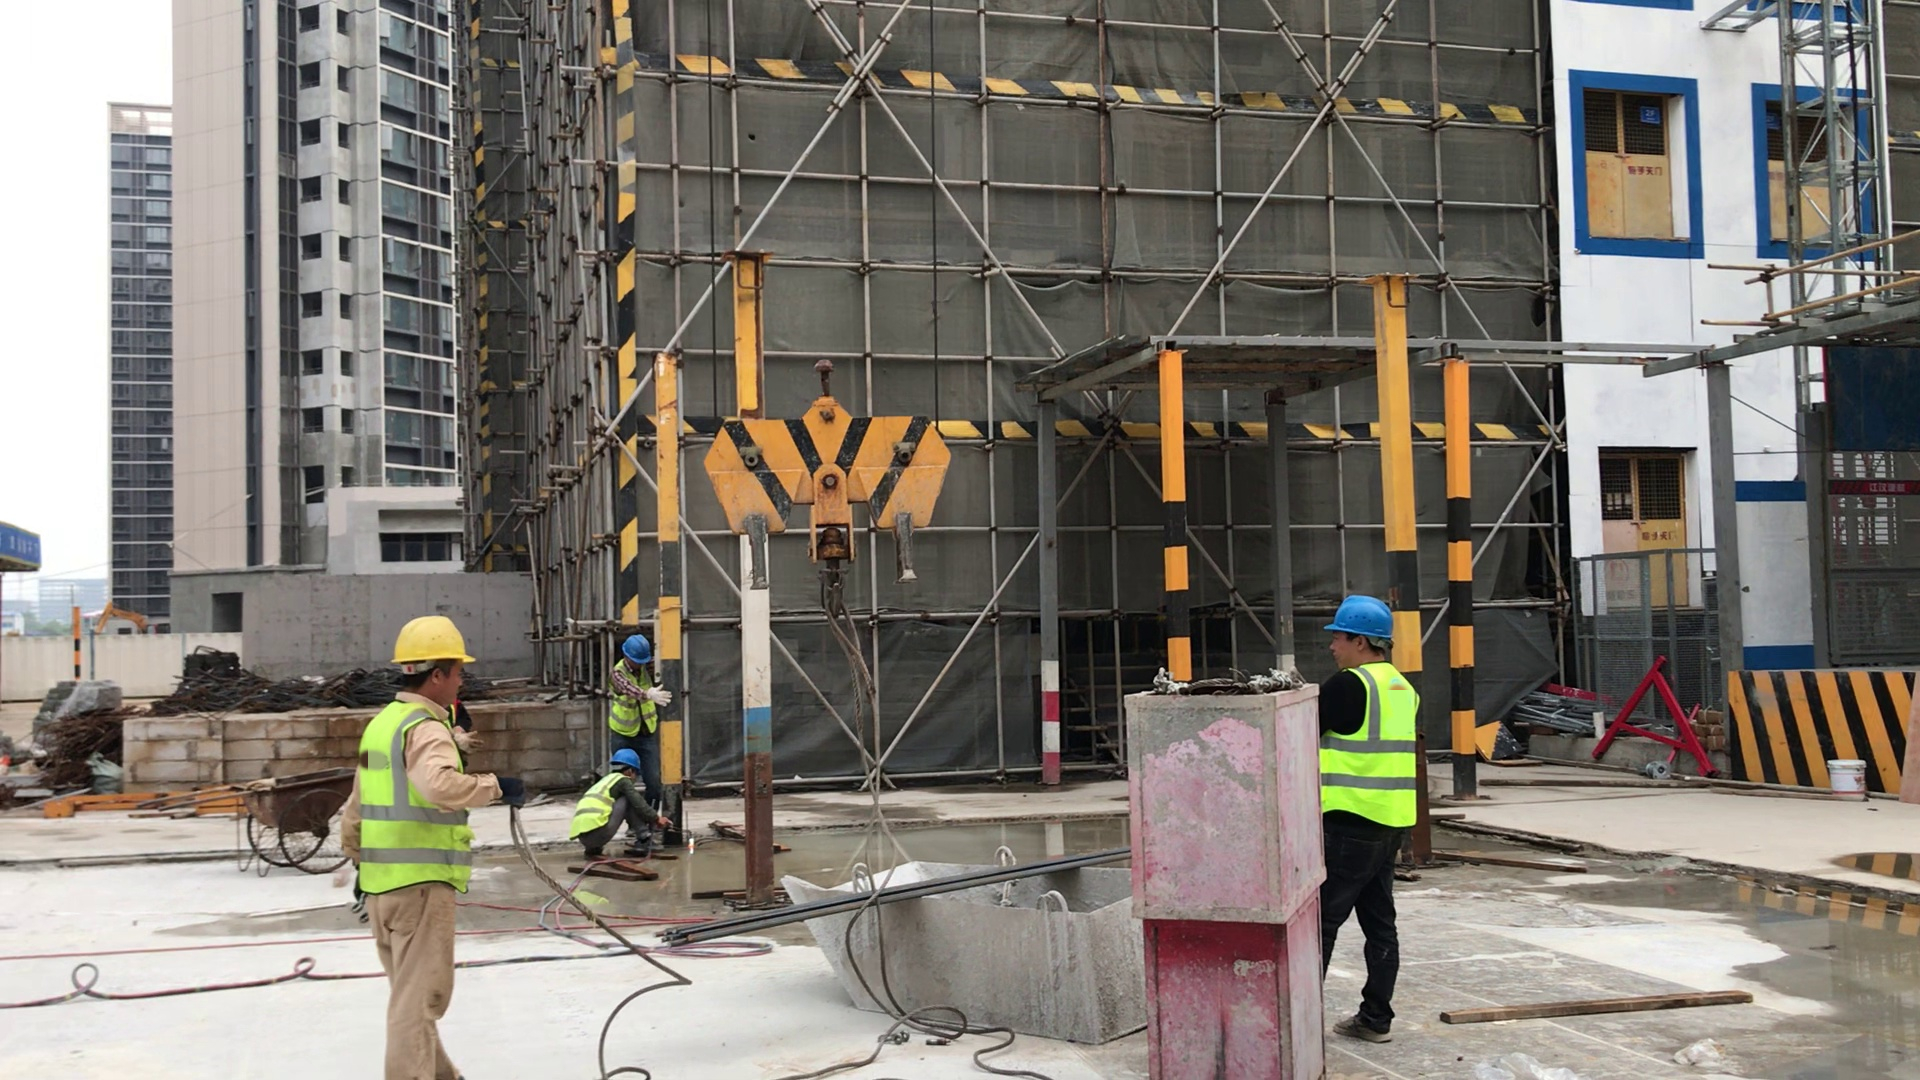handcart: (194, 761, 357, 891)
helmet: (382, 612, 486, 674), (1323, 591, 1415, 646), (611, 631, 662, 670), (604, 741, 652, 779)
hook: (672, 324, 1019, 692)
hopper: (771, 839, 1167, 1058)
person: (338, 610, 531, 1080), (1301, 588, 1452, 1051), (606, 630, 698, 788), (575, 747, 685, 877)
rebar: (653, 847, 1130, 949)
slogan: (1, 521, 53, 570)
vest: (354, 699, 481, 903), (1321, 662, 1428, 831), (597, 665, 674, 749), (574, 770, 628, 843)
